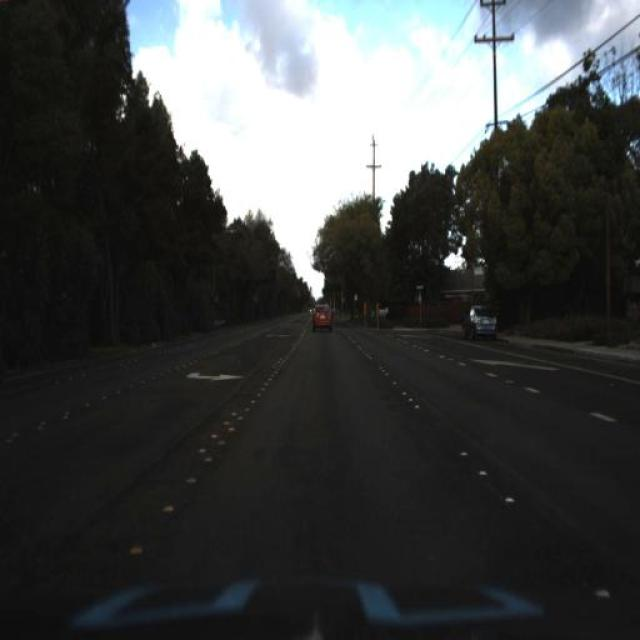car: (457, 302, 499, 342), (309, 298, 335, 342)
